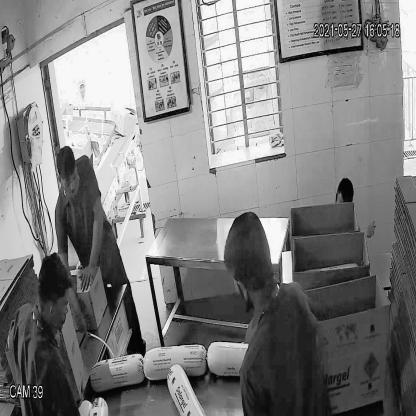no_goggles: (59, 168, 80, 193)
